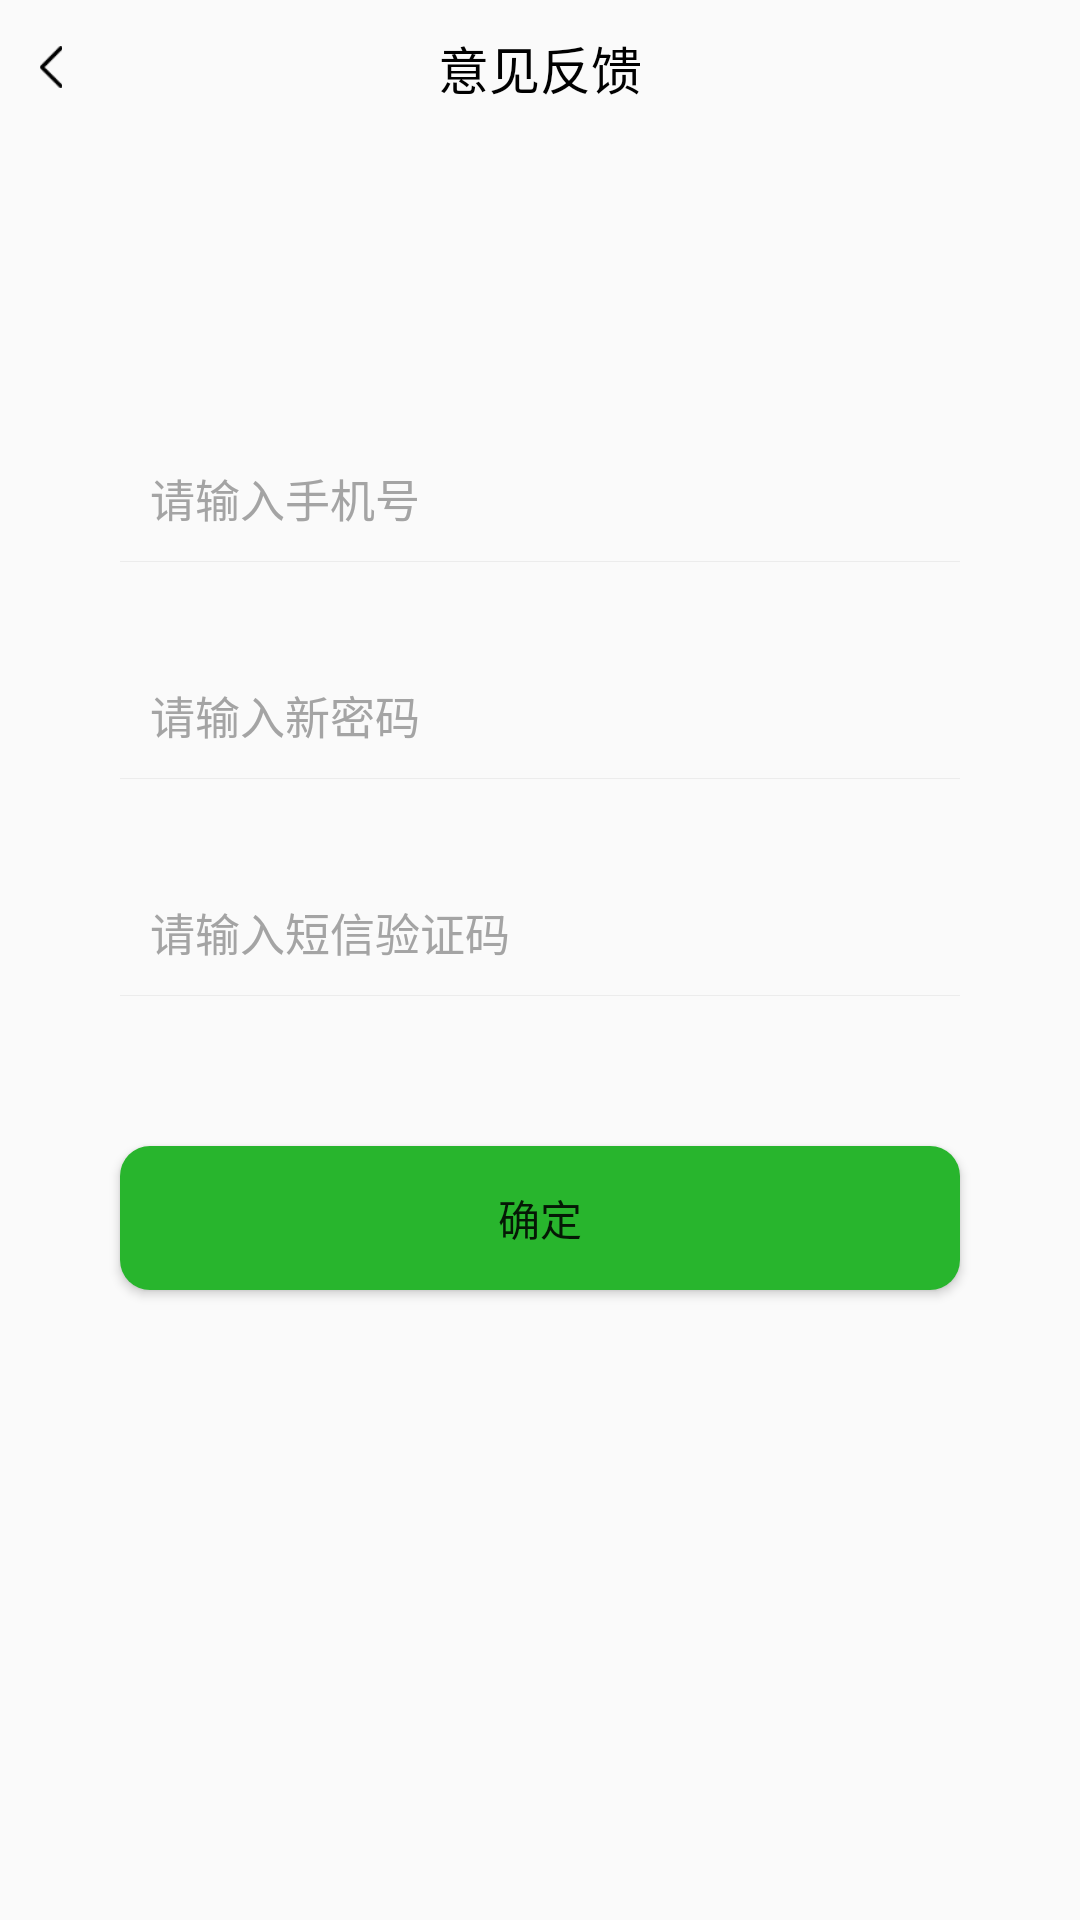

Icons on this 1080 × 1920 Android screen, each with the point to tap as [x,y]:
back: [51,67]
